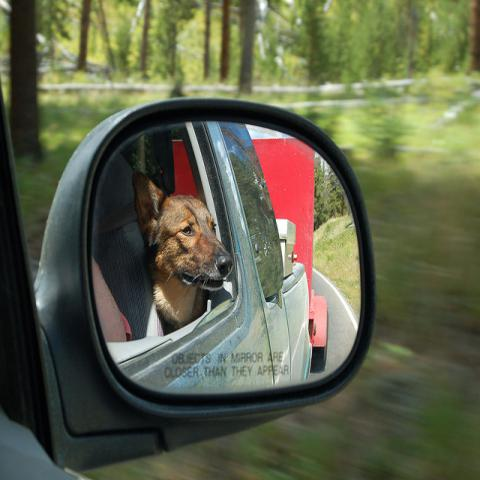car: (0, 79, 376, 479), (104, 124, 315, 394)
truck: (88, 124, 318, 394)
